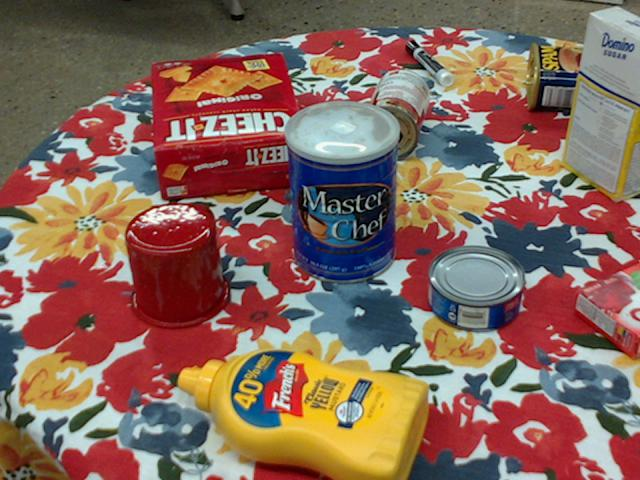cracker_box: (152, 53, 308, 197)
gelatin_box: (574, 262, 639, 358)
large_marker: (406, 39, 453, 84)
master_chef_can: (283, 100, 398, 284)
mug: (123, 201, 231, 329)
mustard_bottle: (178, 347, 431, 479)
potted_meat_can: (525, 40, 603, 109)
sugar_box: (560, 7, 639, 202)
tomato_soup_can: (359, 67, 428, 159)
tuna_fish_can: (429, 246, 526, 332)
